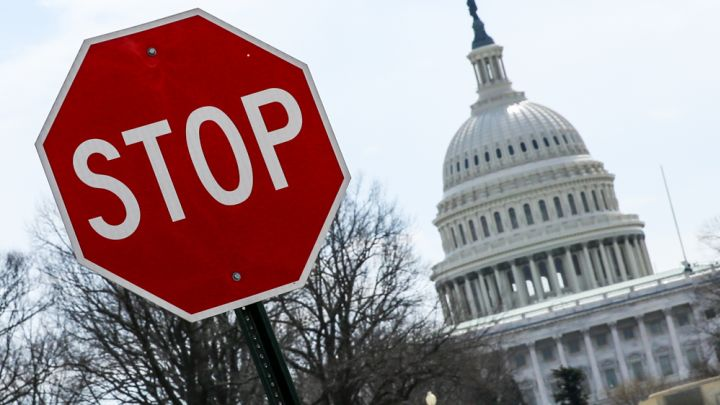stopsign: (36, 11, 349, 318)
